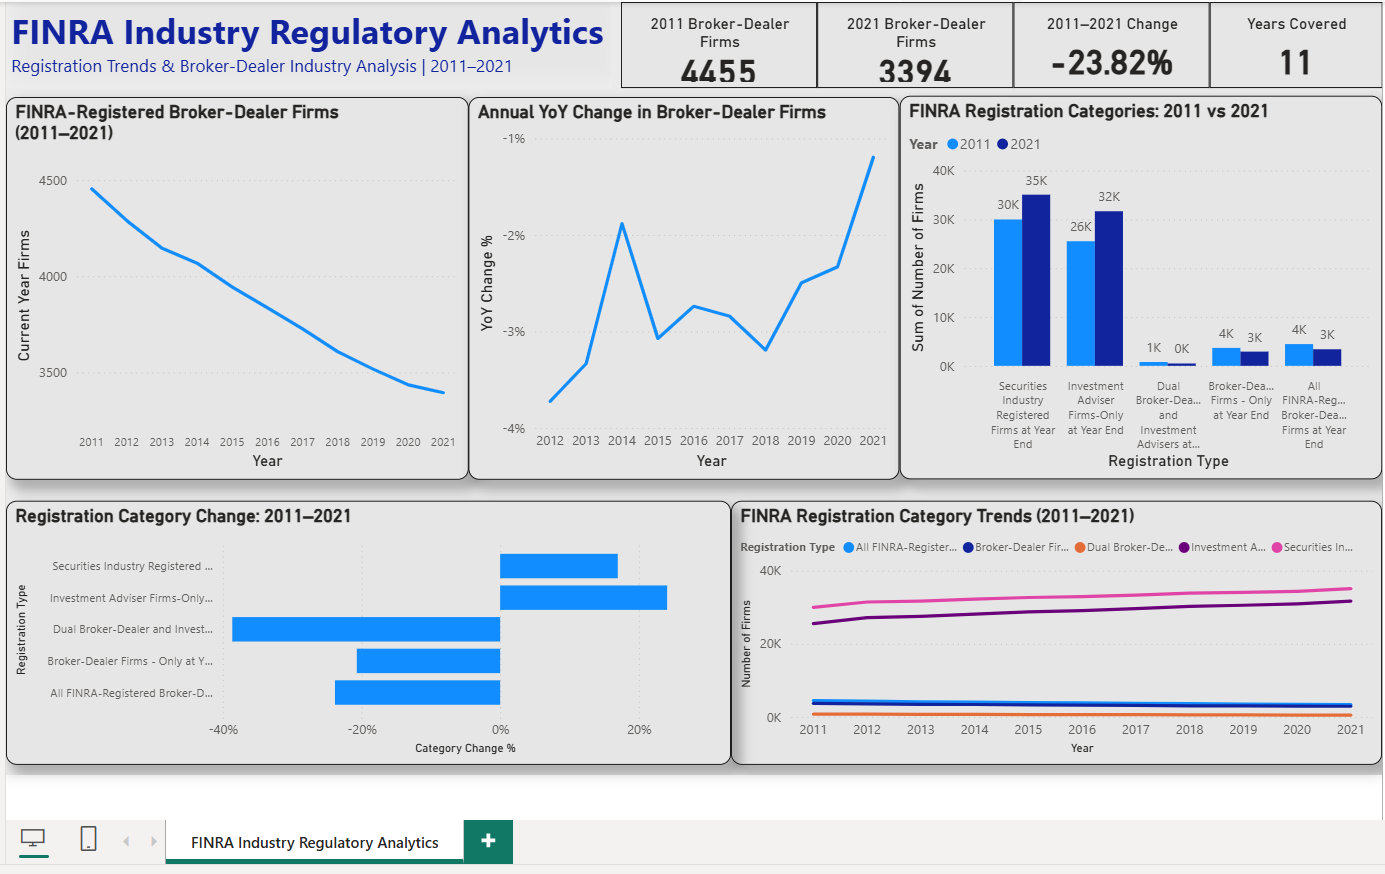

What the dashboard file says about the page in this screenshot:
{"tool":"powerbi","page":{"name":"FINRA Industry Regulatory Analytics","canvas":[1280,720],"ordinal":0},"visuals":[{"type":"lineChart","title":"FINRA-Registered Broker-Dealer Firms (2011–2021)","fields":{"Category":["FINRA Industry Analysis.Year"],"Y":["FINRA Industry Analysis.Current Year Firms"]},"box":[0,88.4,430.2,355.8],"z":0},{"type":"lineChart","title":"Annual YoY Change in Broker-Dealer Firms","fields":{"Category":["FINRA Industry Analysis.Year"],"Y":["FINRA Industry Analysis.YoY Change %"]},"box":[430.2,88.4,401.2,355.8],"z":1000},{"type":"clusteredColumnChart","title":"FINRA Registration Categories: 2011 vs 2021","fields":{"Category":["FINRA Industry Analysis.Registration Type"],"Y":["Sum(FINRA Industry Analysis.Number of Firms)"],"Series":["FINRA Industry Analysis.Year"]},"box":[831.4,87.2,448.8,357],"z":2000},{"type":"card","title":"2011 Broker-Dealer Firms","fields":{"Values":["FINRA Industry Analysis.First Year Firms"]},"box":[572.1,0,182.6,80.2],"z":3000},{"type":"card","title":"2021 Broker-Dealer Firms","fields":{"Values":["FINRA Industry Analysis.Latest Year Firms"]},"box":[754.7,0,182.6,80.2],"z":4000},{"type":"card","title":"2011–2021 Change","fields":{"Values":["FINRA Industry Analysis.Overall Change %"]},"box":[937.2,0,182.6,80.2],"z":5000},{"type":"card","title":"Years Covered","fields":{"Values":["FINRA Industry Analysis.Years Covered"]},"box":[1119.8,0,160.5,80.2],"z":6000},{"type":"lineChart","title":"FINRA Registration Category Trends (2011–2021)","fields":{"Category":["FINRA Industry Analysis.Year"],"Y":["Sum(FINRA Industry Analysis.Number of Firms)"],"Series":["FINRA Industry Analysis.Registration Type"]},"box":[674.4,464,605.8,245.3],"z":7000},{"type":"clusteredBarChart","title":"Registration Category Change: 2011–2021","fields":{"Category":["FINRA Industry Analysis.Registration Type"],"Y":["FINRA Industry Analysis.Category Change %"]},"box":[0,464,674.4,245.3],"z":8000},{"type":"textbox","box":[0,0,562.8,80.2],"z":9000}]}

Visuals, with their boxes in screenshot pixels (x1, y1, x2, y2):
"FINRA-Registered Broker-Dealer Firms (2011–2021)" lineChart: <region>7, 98, 466, 478</region>
"Annual YoY Change in Broker-Dealer Firms" lineChart: <region>466, 98, 894, 478</region>
"FINRA Registration Categories: 2011 vs 2021" clusteredColumnChart: <region>894, 97, 1373, 478</region>
"2011 Broker-Dealer Firms" card: <region>618, 4, 813, 89</region>
"2021 Broker-Dealer Firms" card: <region>813, 4, 1007, 89</region>
"2011–2021 Change" card: <region>1007, 4, 1202, 89</region>
"Years Covered" card: <region>1202, 4, 1373, 89</region>
"FINRA Registration Category Trends (2011–2021)" lineChart: <region>727, 499, 1373, 760</region>
"Registration Category Change: 2011–2021" clusteredBarChart: <region>7, 499, 727, 760</region>
textbox: <region>7, 4, 608, 89</region>
